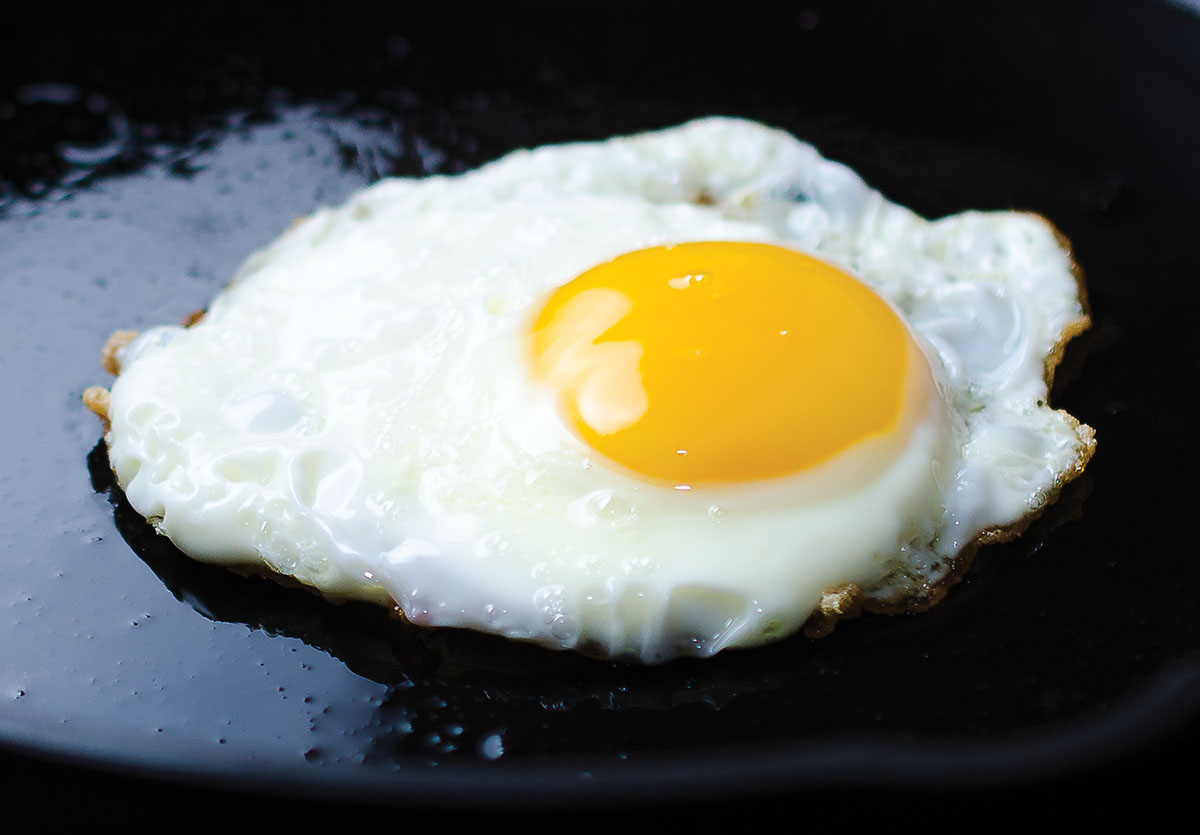fried egg: (114, 126, 1054, 589)
